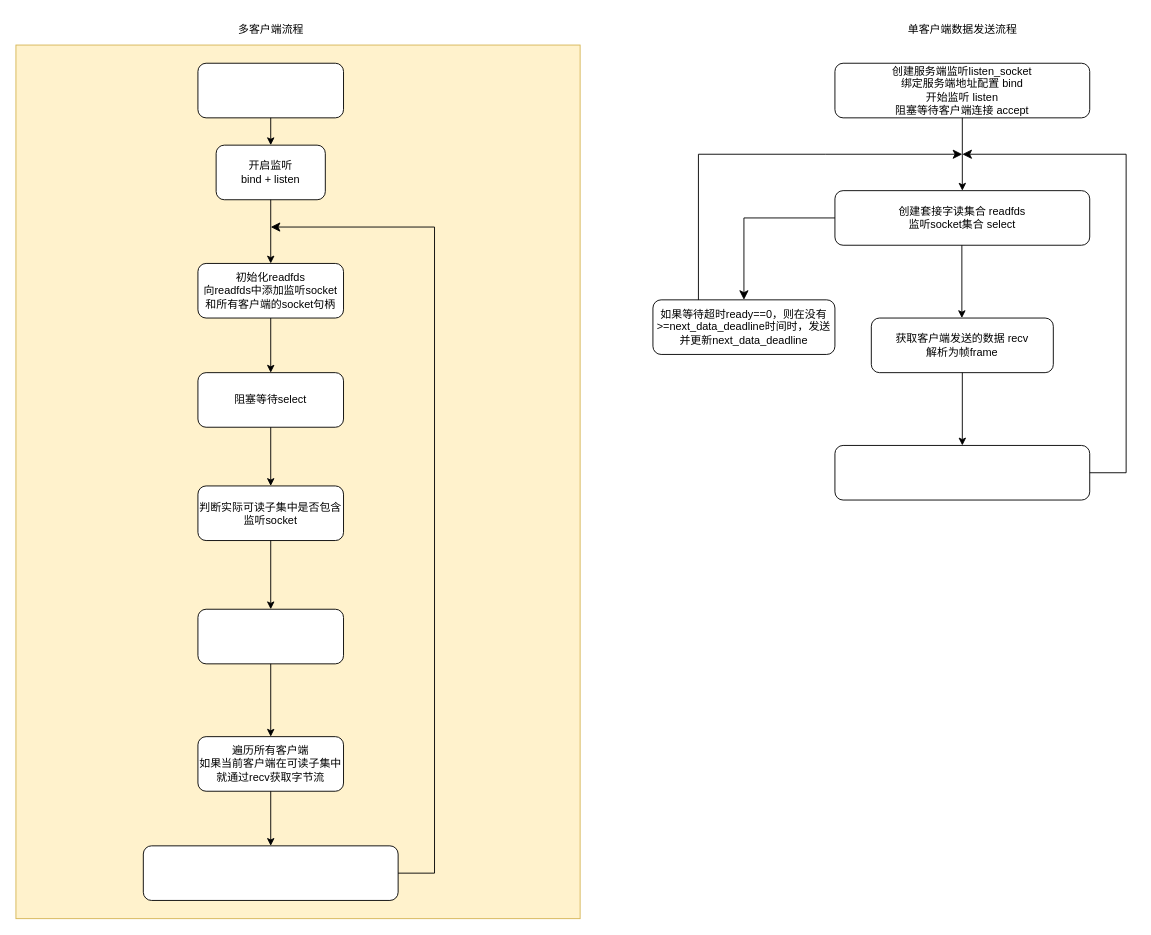
The diagram is 1151 pixels wide and 935 high, and some of its shapes have lost their labels. Here are the shapes that lost their labels. From the top down, the box of each, then its label:
(197, 62, 344, 118): 创建服务端监听listen_socket
(834, 445, 1090, 500): 如果上一个状态非Running但是当前状态为Running，则更新下一次数据发送时间 next_data_deadline
(197, 608, 344, 664): 包含则通过accept获取新连接，并将新socket加入数组中
(142, 845, 398, 900): 处理客户端发来的字节流，并给客户端响应， 对于没有发送字节的客户端，则从数组中删除
